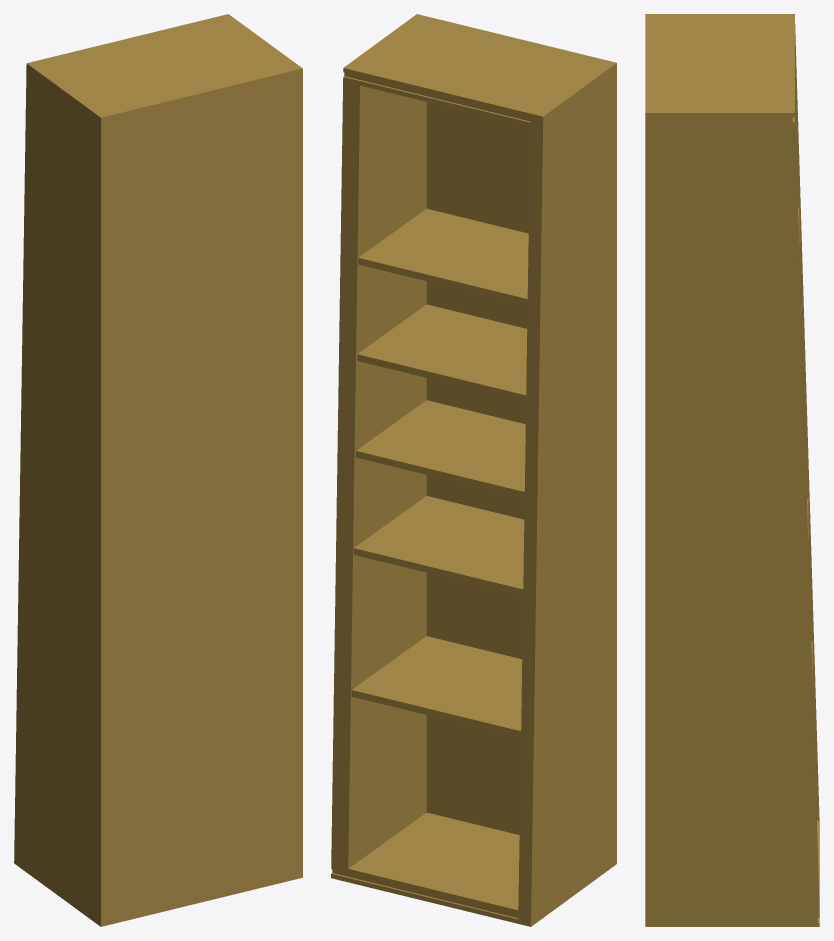
File: CerminA.fbx
3 renders of one model, left to right at view 1: azimuth 30°, elevation 25°; view 2: azimuth 150°, elevation 25°; view 3: azimuth 270°, elevation 25°, orthographic.
Parts seen in each view (by area): view 1: Cube.005; view 2: Cube.005; view 3: Cube.005.
Part boxes in pixels (bbox=[...]): Cube.005: bbox=[14, 14, 302, 926]; Cube.005: bbox=[331, 14, 616, 926]; Cube.005: bbox=[645, 14, 819, 926].
Bounding box in the file's own units: 47 × 180 × 35.
